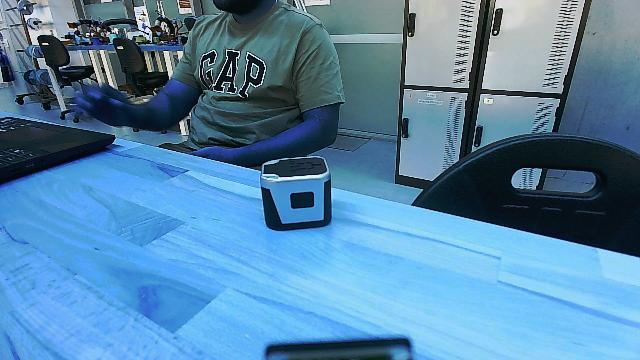adapter: (256, 152, 332, 244)
